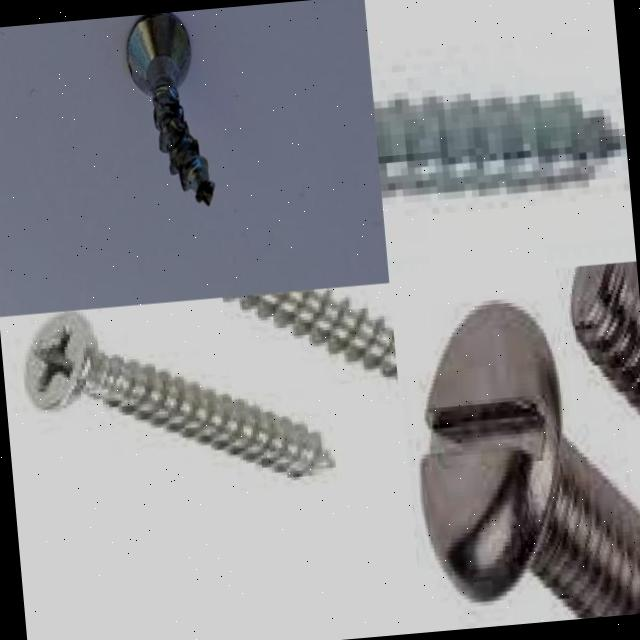Screw: (421, 301, 640, 619), (25, 310, 335, 477), (373, 94, 620, 188), (127, 12, 214, 207), (228, 288, 397, 376)
